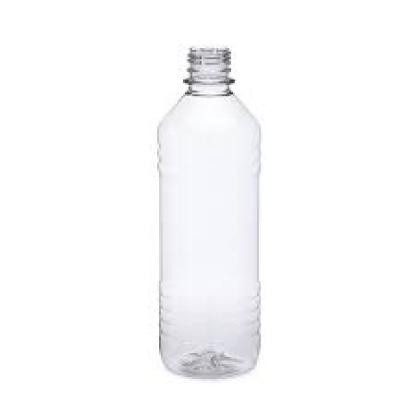trash: (158, 48, 259, 377)
